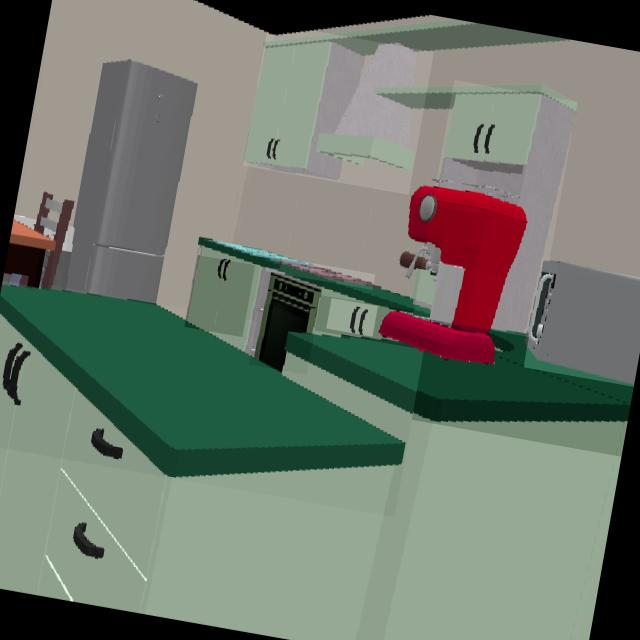cabinet: (0, 315, 627, 640), (436, 93, 575, 333), (243, 42, 415, 181), (185, 248, 258, 337), (326, 298, 378, 336)
countertop: (0, 284, 407, 477), (284, 326, 633, 423)
fridge: (69, 59, 199, 291)
microwave: (527, 261, 640, 386)
oven: (250, 271, 320, 370)
sink: (201, 238, 278, 269)
stove: (267, 255, 375, 284)
table: (8, 214, 56, 286)
